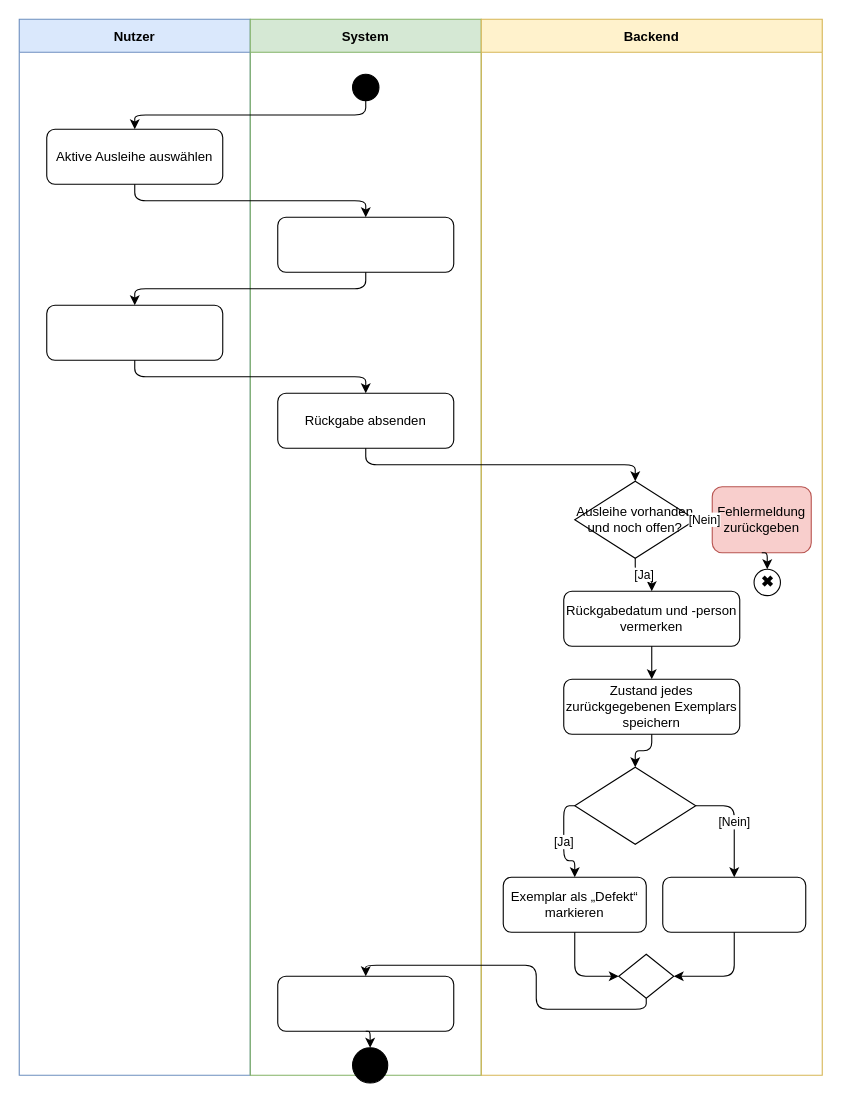
The diagram is 842 pixels wide and 1102 high, and some of its shapes have lost their labels. The shapes that lost their labels are listed below. From the top down, each one's centre as x and y in pixels, then its label:
At point 365,244: "Rückgabedialog öffnen".
At point 134,332: "Zustand jedes Exemplars angeben".
At point 635,805: "Exemplar defekt zurückgegeben?".
At point 734,904: "Exemplar als „Verfügbar“ markieren".
At point 365,1003: "Ausleiheliste aktualisieren".
